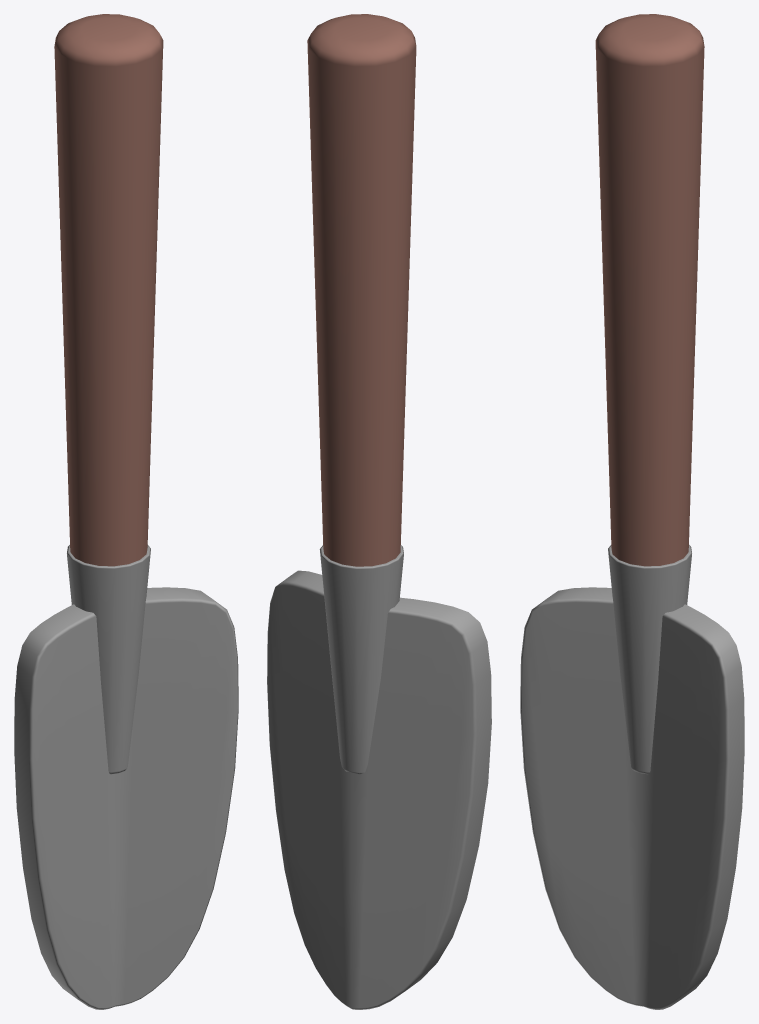
File: Farm_12_Spatula_1.glb
The picture shows the model from 3 angles, left to right: view 1: azimuth 30°, elevation 25°; view 2: azimuth 150°, elevation 25°; view 3: azimuth 330°, elevation 25°; orthographic projection.
Parts seen in each view (by area): view 1: Farm_12_Spatula_1; view 2: Farm_12_Spatula_1; view 3: Farm_12_Spatula_1.
Boxes of the visible parts, <box> form: Farm_12_Spatula_1: <box>14,14,238,1009</box>; Farm_12_Spatula_1: <box>267,14,491,1009</box>; Farm_12_Spatula_1: <box>520,14,744,1009</box>.
Bounding box in the file's own units: 0.1564 × 0.693 × 0.0709.
1 material, 1 textured.
